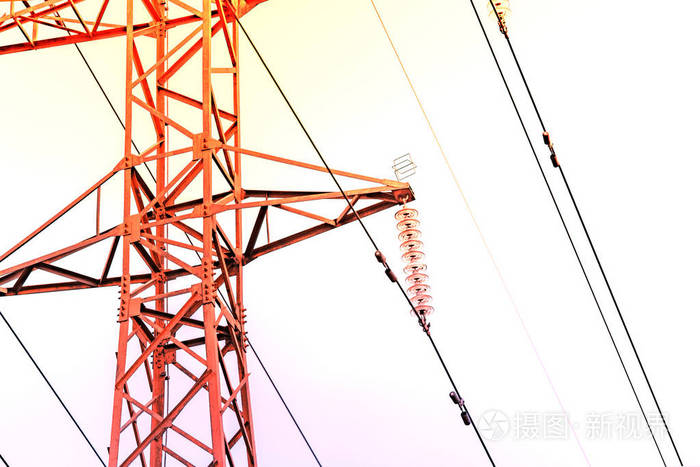insulator: (394, 207, 435, 317)
